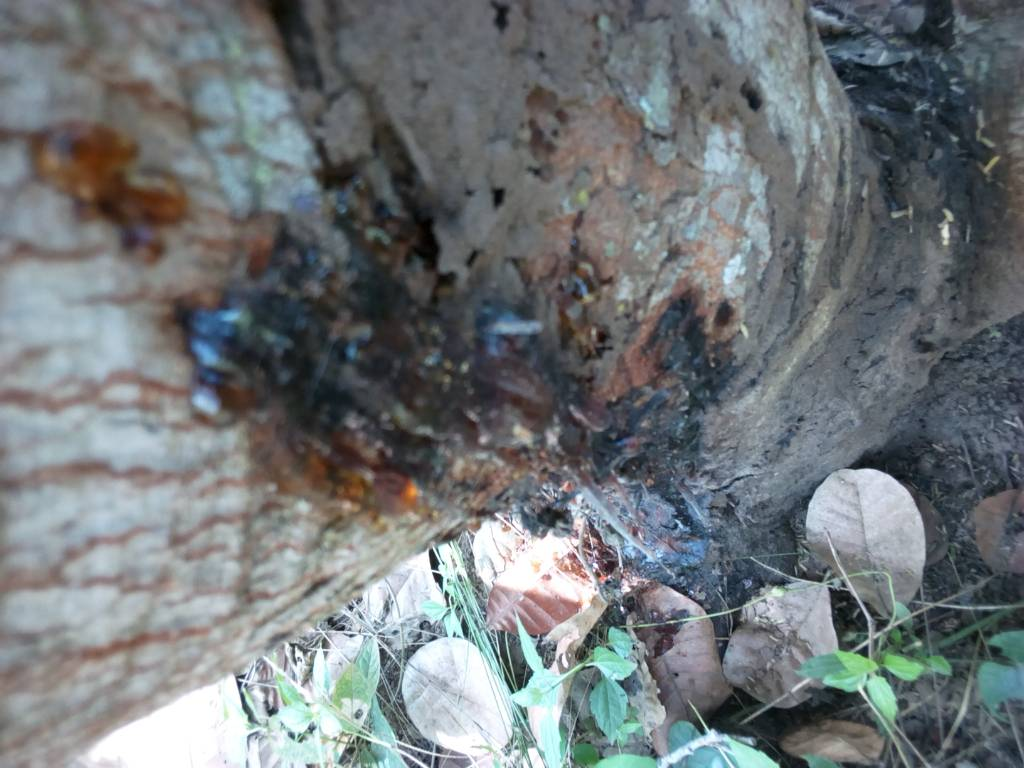Termites: (446, 11, 816, 304), (804, 193, 994, 421)
